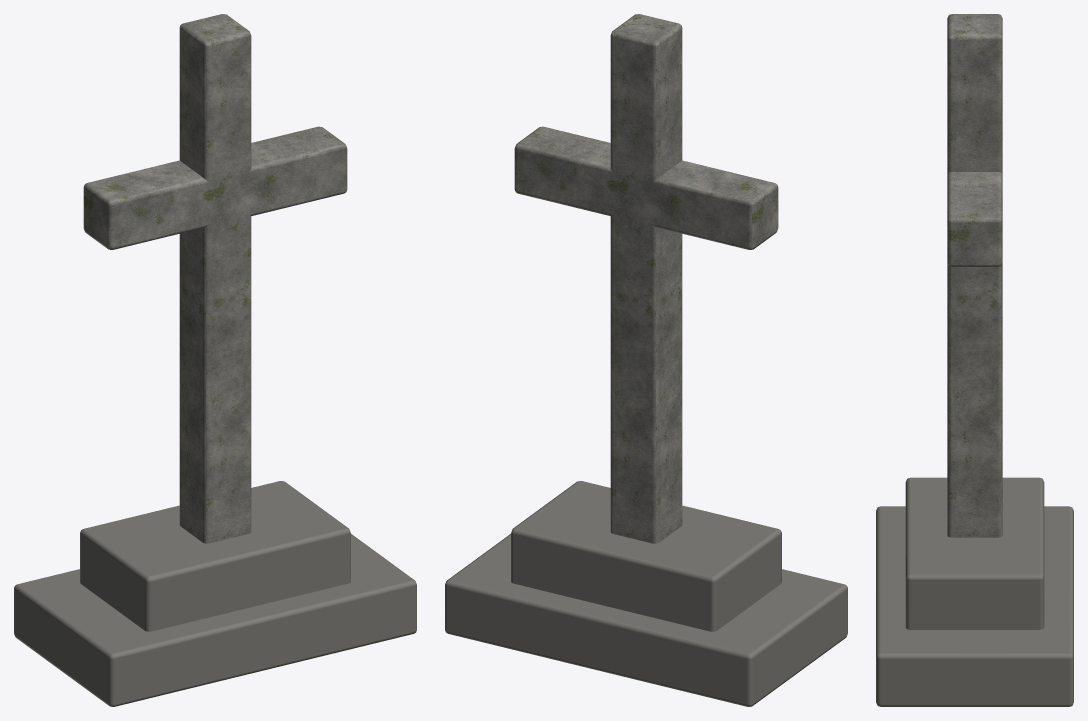
Rendered from cruz_panteon.obj.
The picture shows the model from 3 angles, left to right: view 1: azimuth 30°, elevation 25°; view 2: azimuth 150°, elevation 25°; view 3: azimuth 270°, elevation 25°; orthographic projection.
Visible parts, largest first — view 1: poste, base_inferior, base_superior, brazo; view 2: poste, base_inferior, base_superior, brazo; view 3: poste, base_inferior, base_superior, brazo.
Boxes of the visible parts, x1=… form: poste: x1=179, y1=14, x2=251, y2=543; base_inferior: x1=14, y1=534, x2=416, y2=706; base_superior: x1=80, y1=481, x2=350, y2=631; brazo: x1=83, y1=126, x2=347, y2=249; poste: x1=610, y1=14, x2=682, y2=543; base_inferior: x1=445, y1=534, x2=847, y2=706; base_superior: x1=511, y1=481, x2=781, y2=631; brazo: x1=514, y1=126, x2=778, y2=249; poste: x1=947, y1=14, x2=1002, y2=537; base_inferior: x1=876, y1=506, x2=1073, y2=706; base_superior: x1=905, y1=477, x2=1044, y2=629; brazo: x1=947, y1=172, x2=1002, y2=266.
Size of the model in its own units: 0.9 by 1.7 by 0.5.
Materials: 1 (1 with a texture image).
